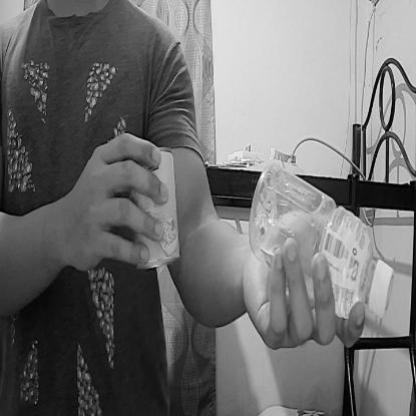Plastic Bottle: (245, 144, 398, 354)
